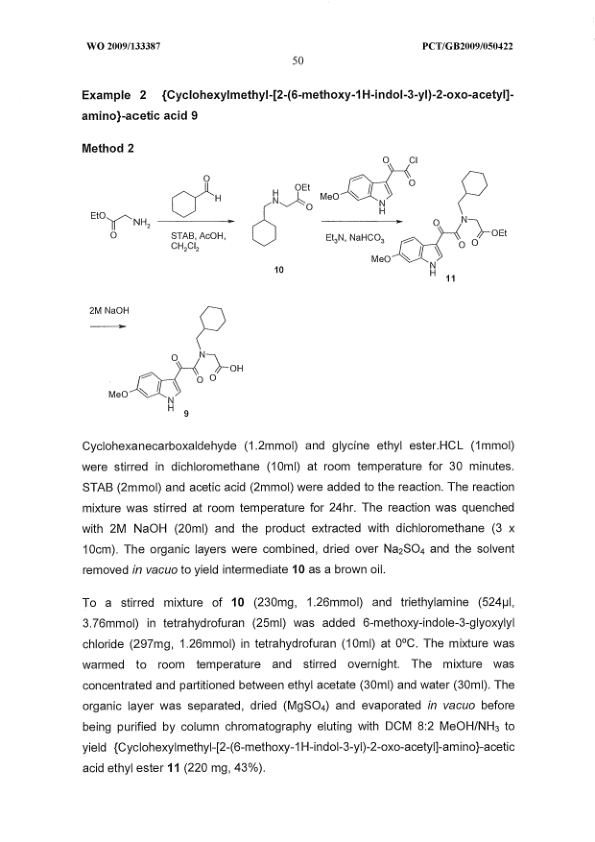compound-structure: (370, 163, 515, 284), (107, 302, 258, 416), (322, 156, 429, 216), (250, 183, 314, 258), (76, 193, 150, 246), (167, 168, 227, 219)
reaction: (66, 131, 521, 427)
reaction-arrow: (309, 148, 432, 248), (149, 160, 243, 254), (80, 304, 140, 334)
